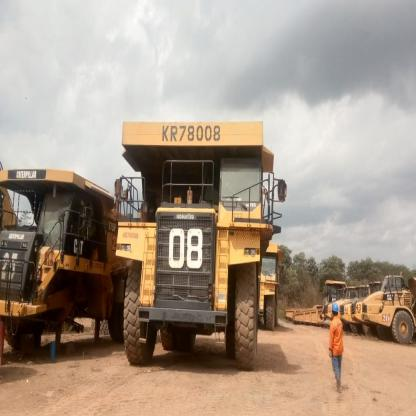dump_truck: (112, 111, 282, 369)
person: (330, 294, 350, 404)
